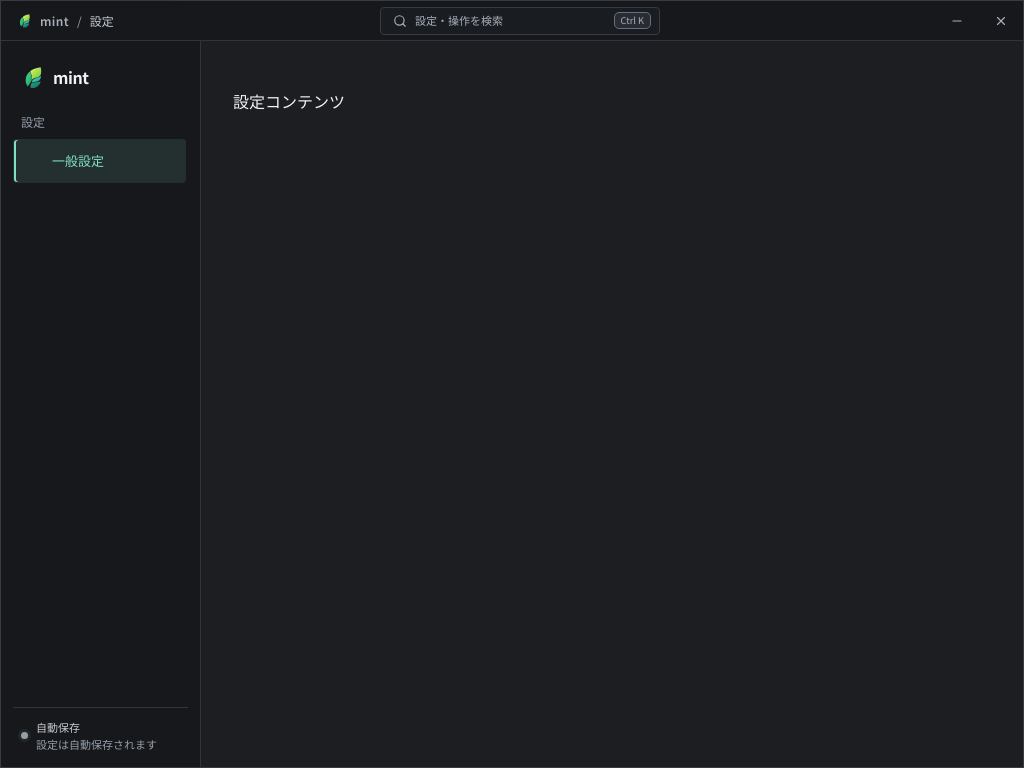
Test case: AppShell › explains why a disabled quick action cannot run
Press k
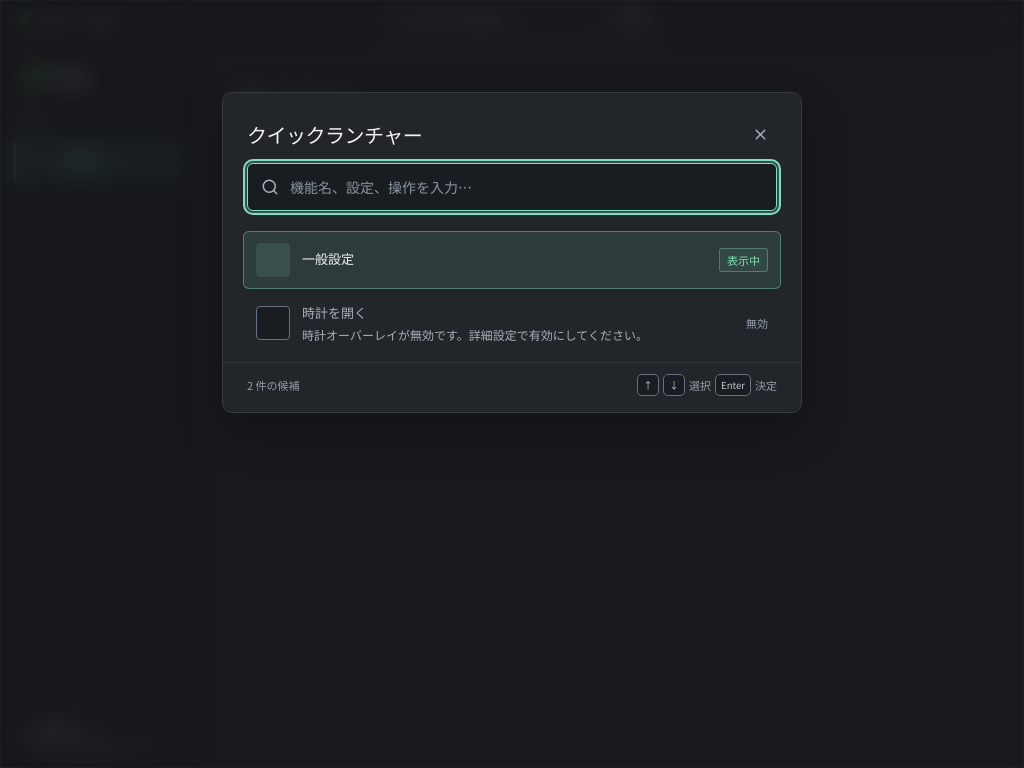
Type "時計" into the dropdown named "設定や項目、操作を検索" at (512, 187), box [247,163,777,211]
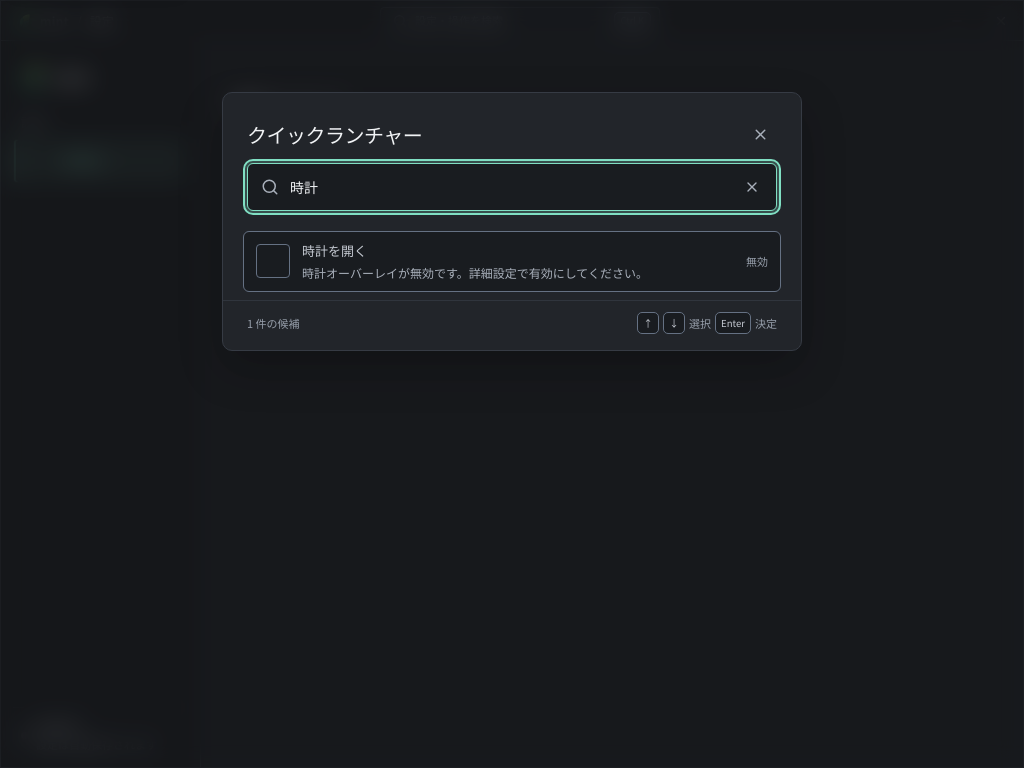
Check: the option "時計を開く 時計オーバーレイが無効です。詳細設定で有効にしてください。 無効" is shown, box [243,231,781,292]
Press Enter in the dropdown named "設定や項目、操作を検索", box [247,163,777,211]
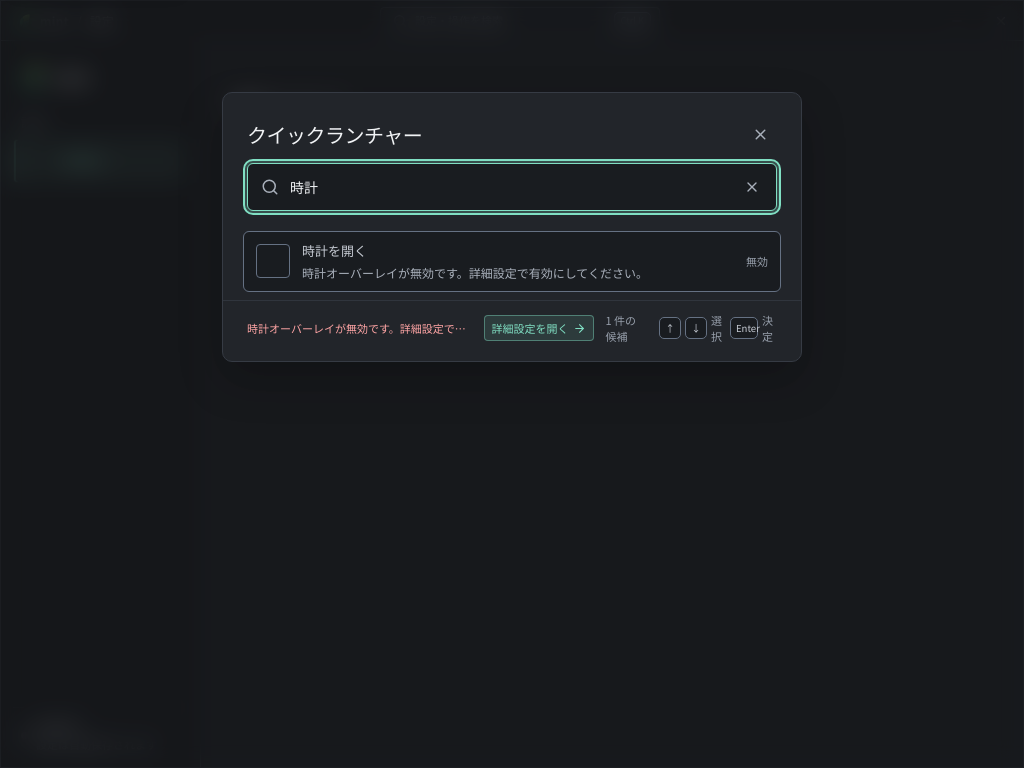
Check: the dialog "クイックランチャー" is shown, box [222,92,802,362]
Check: the message reads "時計オーバーレイが無効です。詳細設定で有効にしてください。", box [247,320,564,336]
Click the button "詳細設定を開く" at (538, 328), box [484,315,594,341]
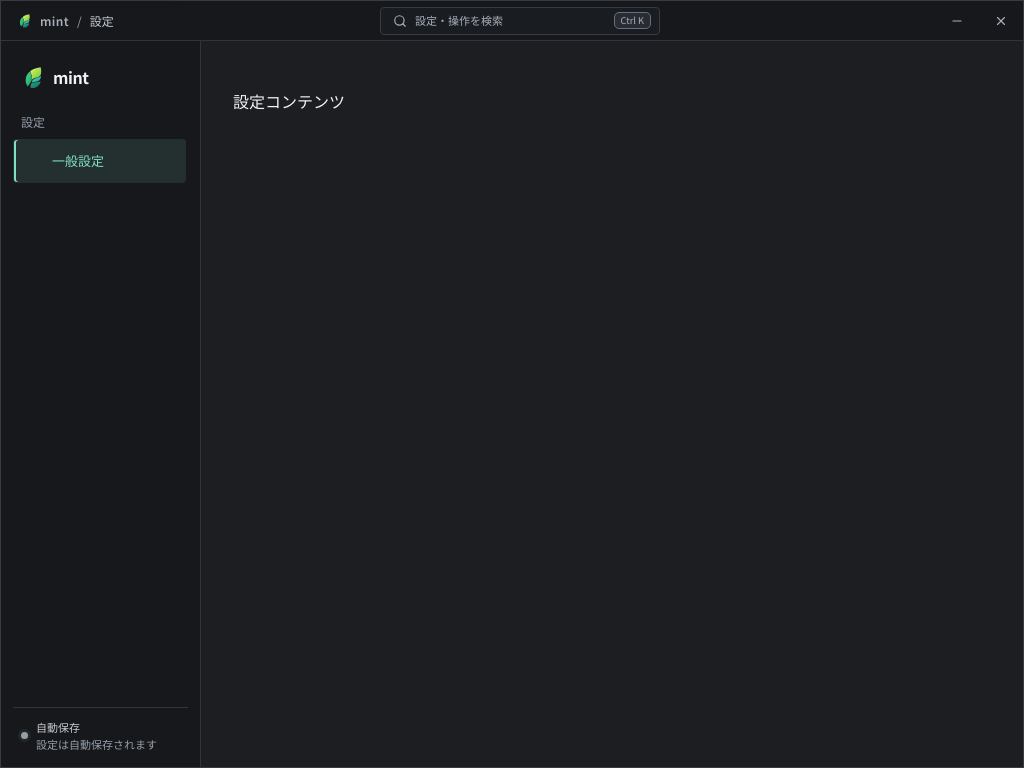
Check: the heading "クイックランチャー" is gone
